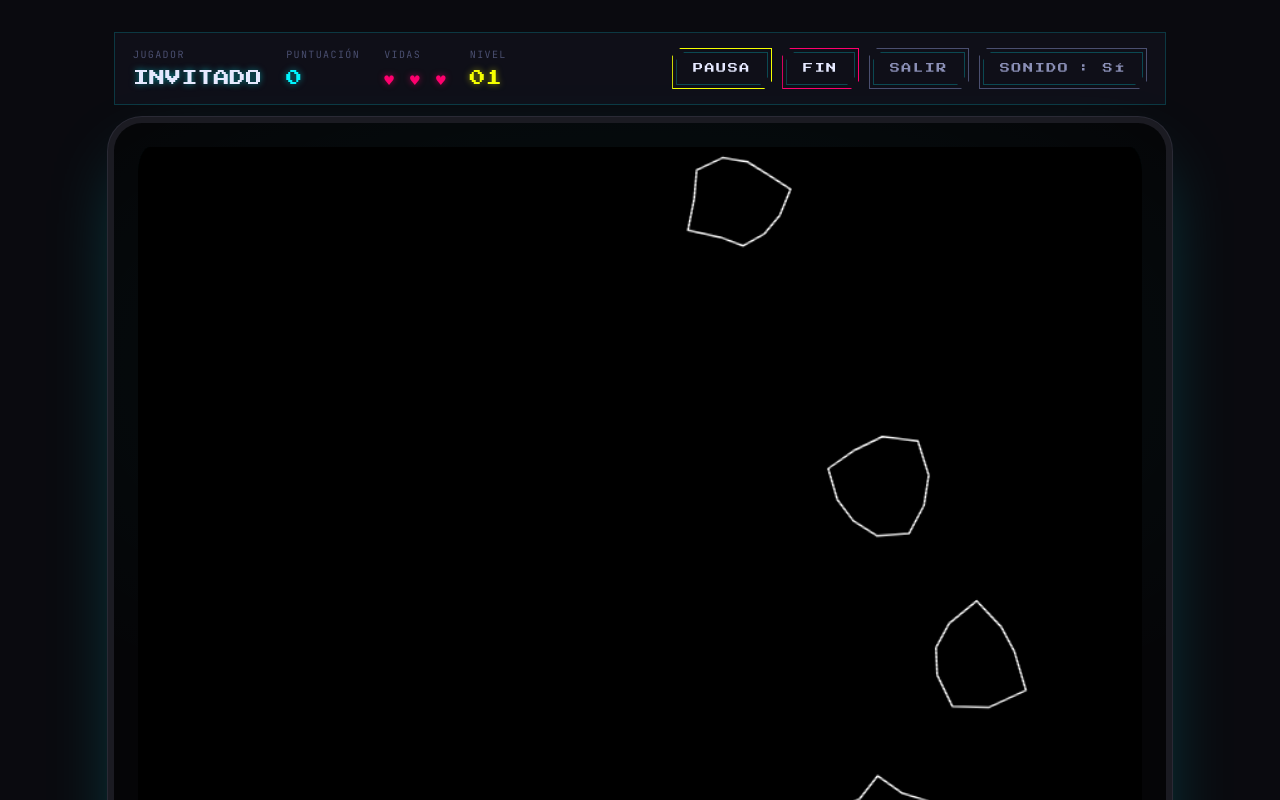
Test: PlayerScreen with the asteroids engine › opens the dialog when FIN is pressed mid-game
Click the button "FIN": coordinates (821, 68) top-left (782, 48), bottom-right (859, 89)
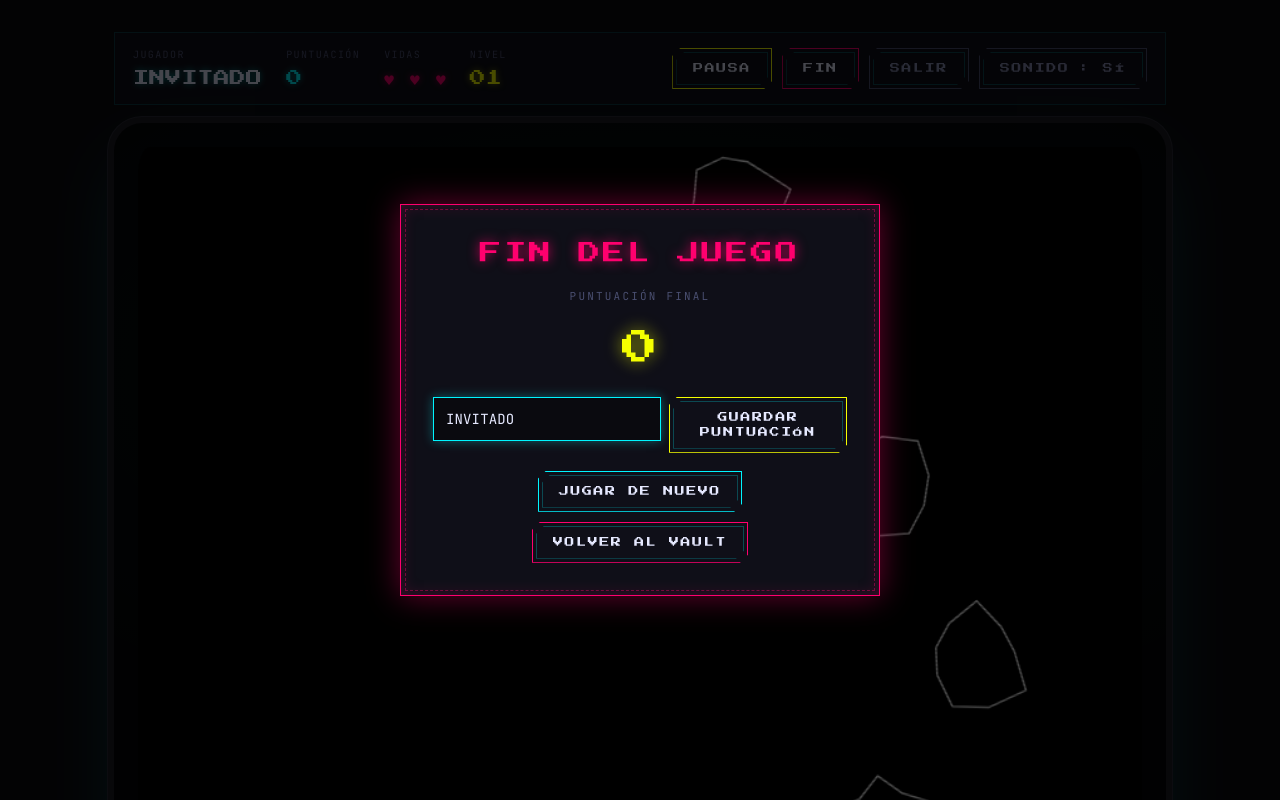
expect the heading "FIN DEL JUEGO" is shown: met, box top-left (480, 242), bottom-right (800, 264)
